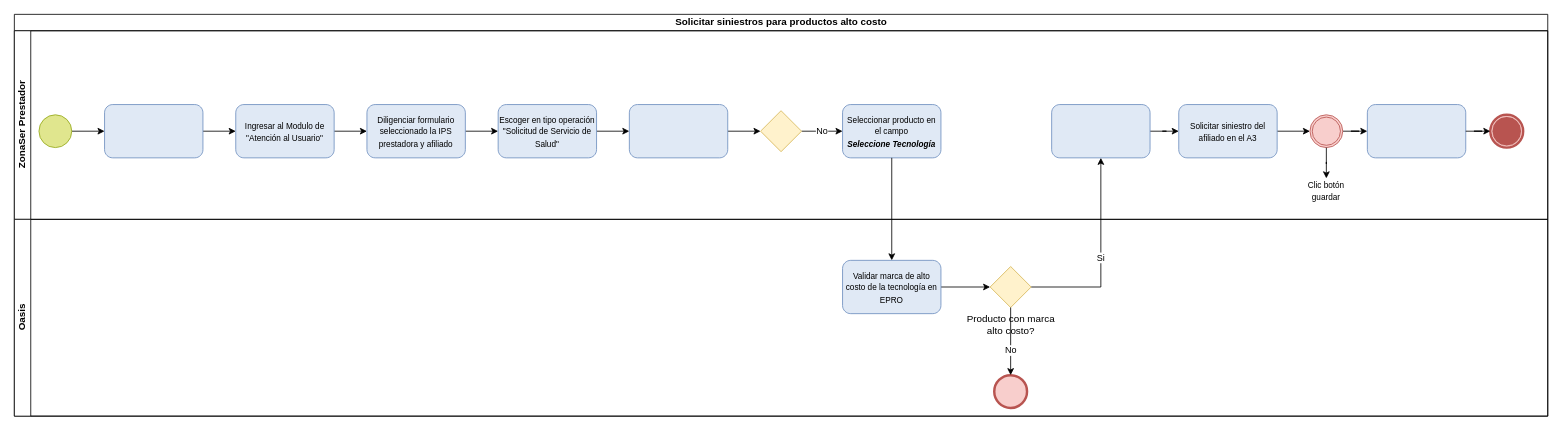
Image size: 1562x431. Some labels were removed from this diagram. The box of each missing label's shape, as (x1, y1, x2, y2) in pixels:
Colocar marca de check en campo de alto costo del A3: (1051, 104, 1150, 158)
Diagnostico alto costo?: (760, 110, 802, 152)
Diligenciar formulario de la solicitud de servicio de salud: (629, 104, 728, 158)
Guardar solicitud de acuerdo con validaciones existentes: (1367, 104, 1466, 158)
Ingresar a ZonaSer Prestador: (104, 104, 203, 158)
